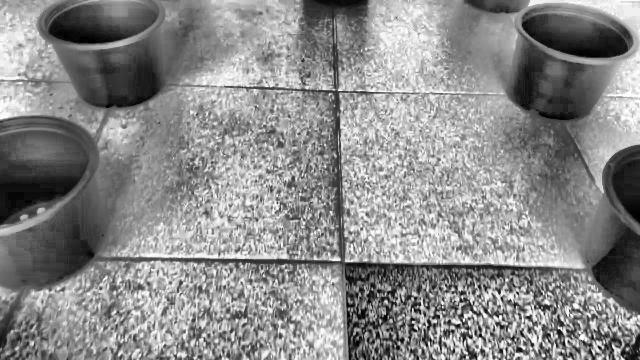pot: (0, 116, 106, 290), (508, 2, 640, 122), (38, 0, 166, 110), (584, 145, 640, 314)
